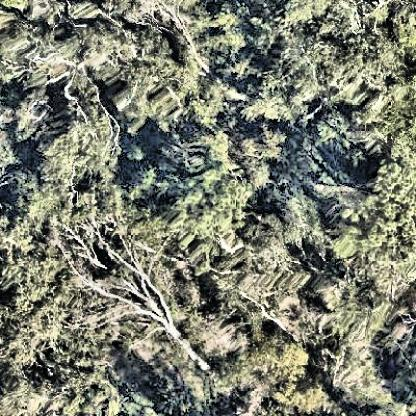tree-top: (139, 130, 259, 254), (280, 1, 416, 96), (12, 76, 122, 184), (323, 150, 416, 270), (100, 22, 219, 113), (1, 248, 82, 367), (1, 1, 99, 89), (3, 178, 84, 244), (238, 329, 305, 389)
